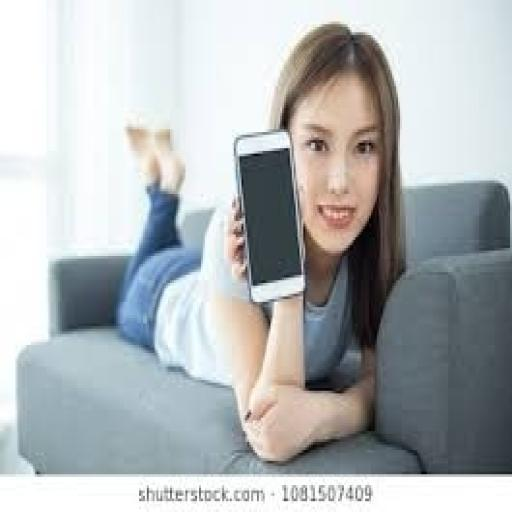sitting: (112, 19, 406, 463)
